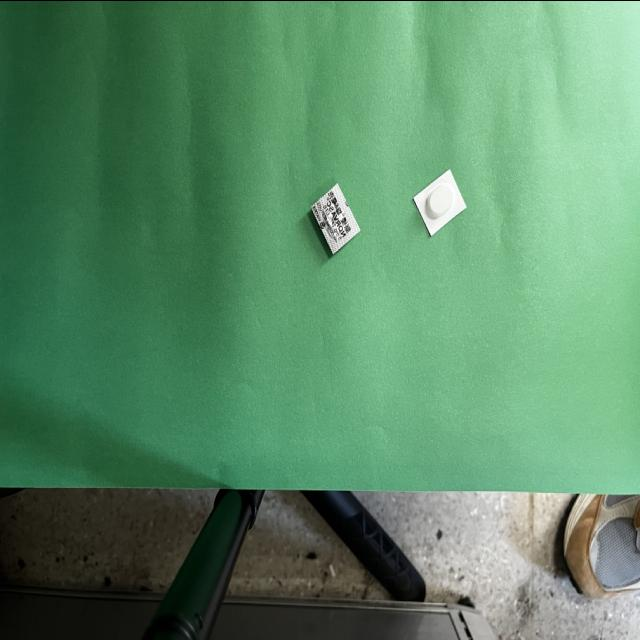Other Objects: (413, 169, 466, 235), (312, 184, 360, 254)
